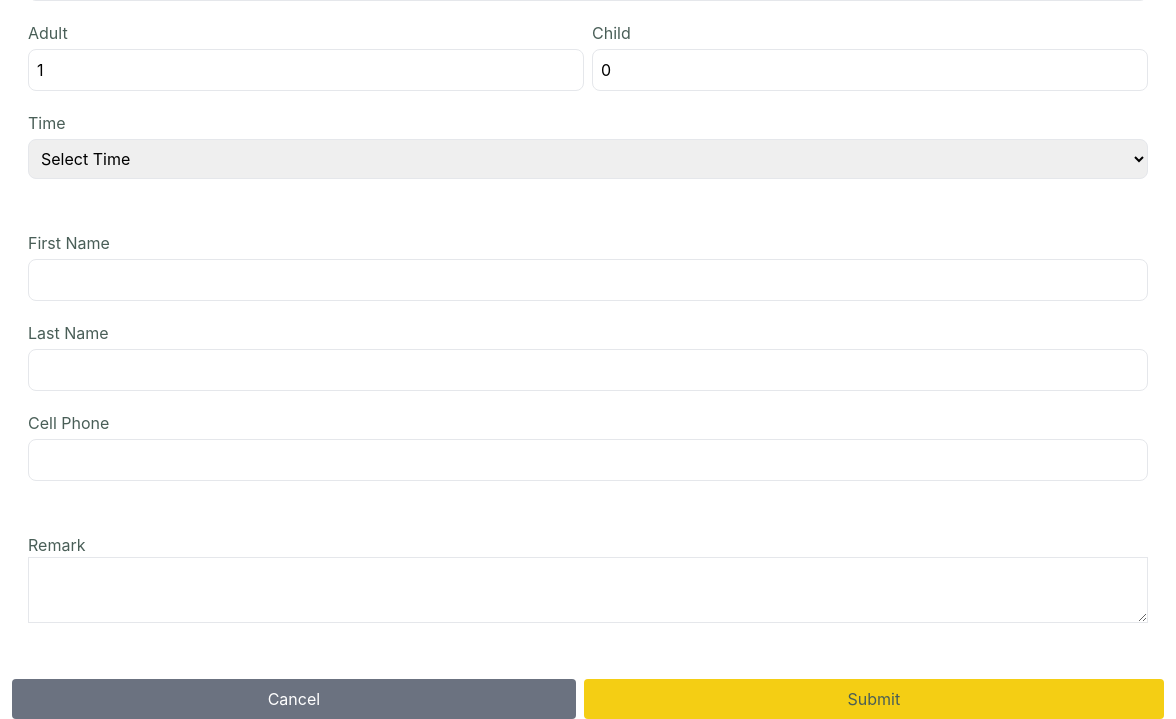
Test: BookingForm › leave first name empty string and validate with error message
(page scrolled)
Check: the field labelled "First Name" is empty, box top-left (28, 259), bottom-right (1148, 301)
Click the button with test id "submit" at (874,699), box top-left (584, 679), bottom-right (1164, 718)
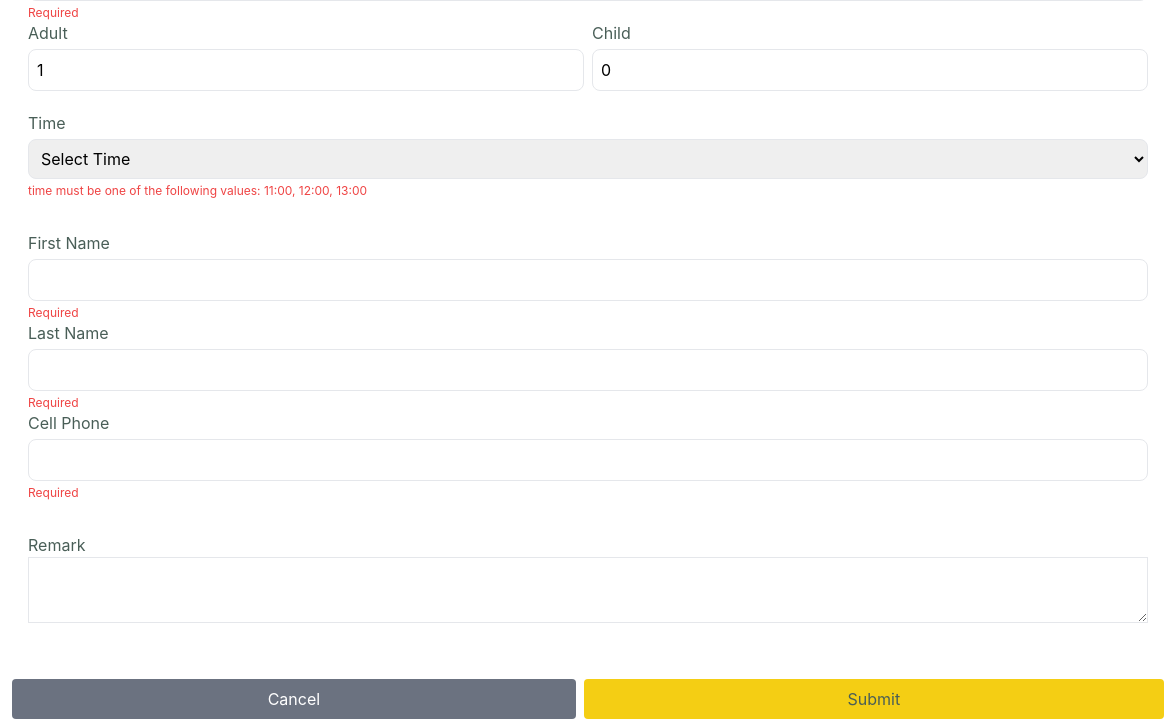
Check: the text with test id "error-firstname" is shown, box top-left (28, 305), bottom-right (79, 320)
